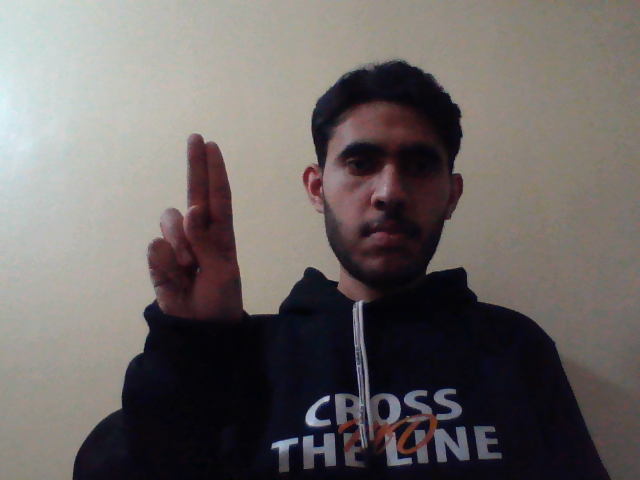U: (137, 127, 249, 341)
